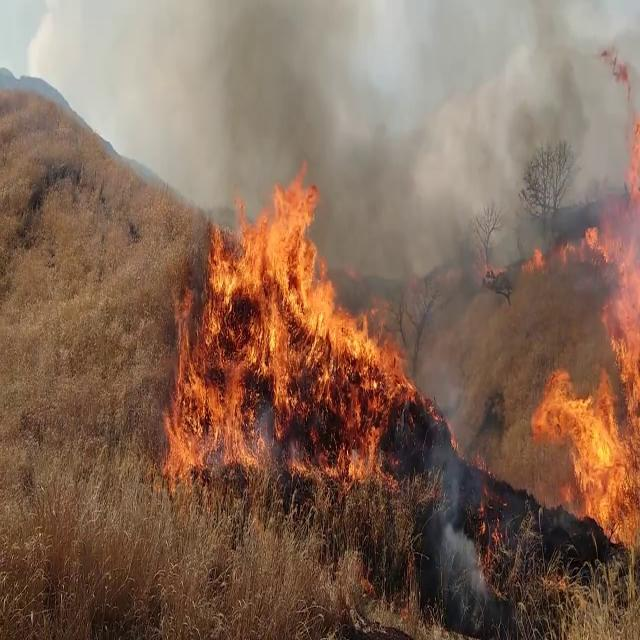Fire: (167, 157, 413, 480), (542, 205, 640, 541)
Smoke: (154, 0, 639, 309)
